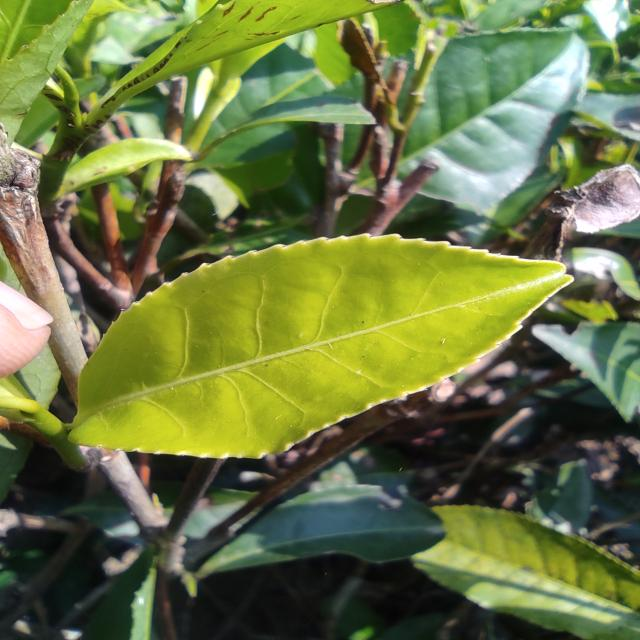Category C 4-7 days: (55, 204, 602, 540)
